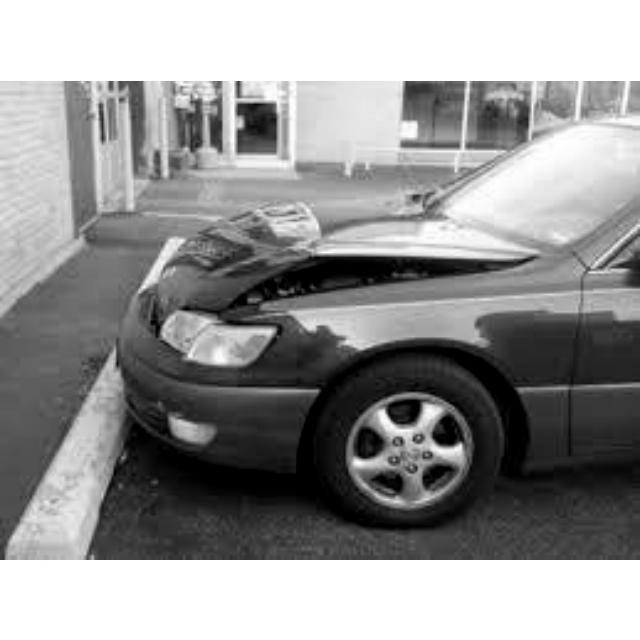bonnet-dent: (151, 191, 373, 297)
